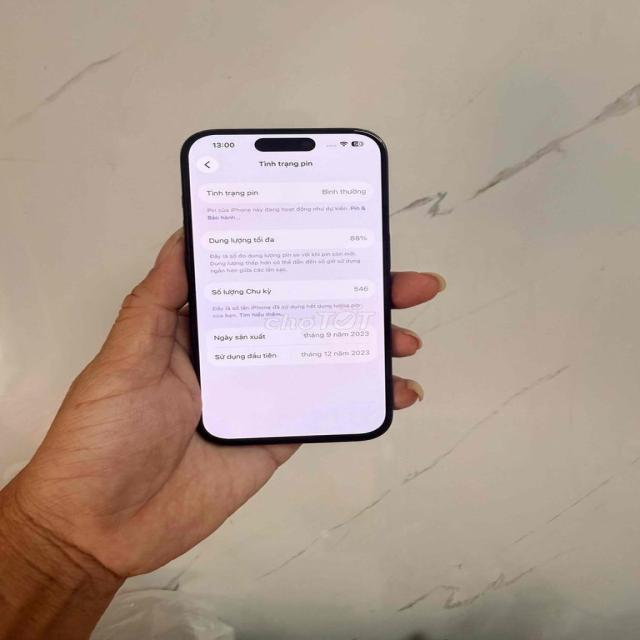gen_15: (156, 103, 402, 450)
